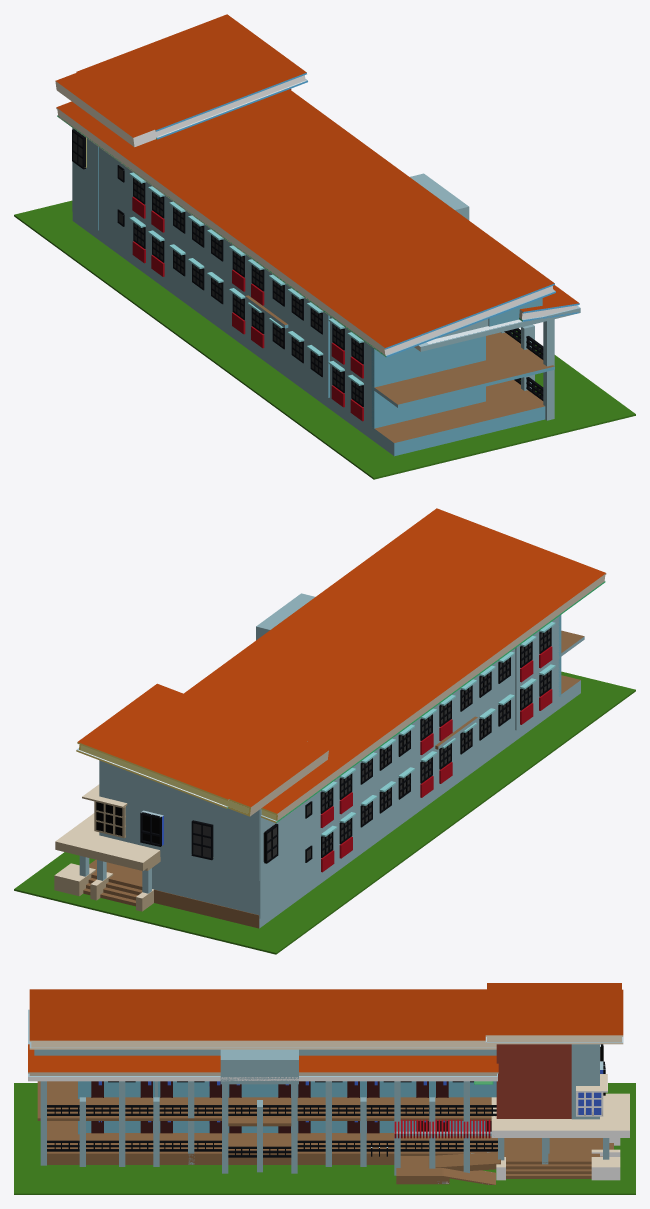
The model's file is COT.gltf.
3 renders of one model, top to bottom at view 1: azimuth 30°, elevation 25°; view 2: azimuth 150°, elevation 25°; view 3: azimuth 270°, elevation 25°, orthographic. The views are drawn at different scales.
Visible parts, largest first — view 1: cube (×17); view 2: cube (×22); view 3: cube (×56).
Part boxes in pixels (x1,y1,x2,y2): cube (×17): (14, 14, 635, 479); cube (×22): (14, 508, 635, 954); cube (×56): (14, 983, 635, 1194).
Bounding box in the file's own units: 10.44 × 5.98 × 24.81.
15 materials, 15 textured.
